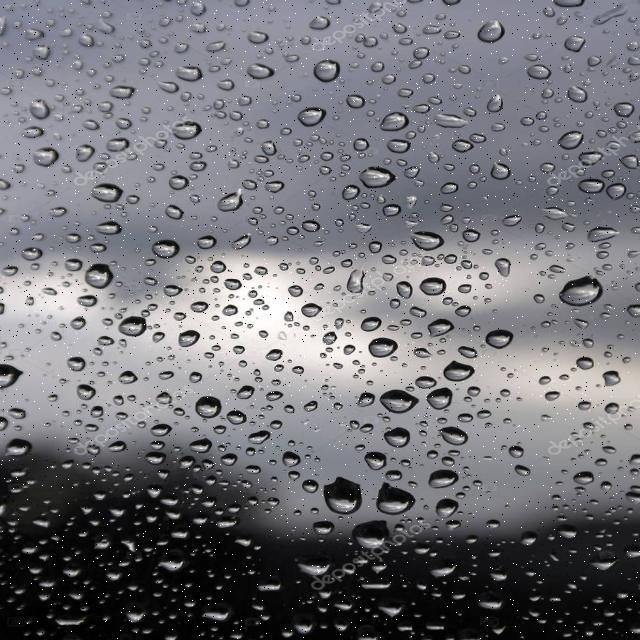raindrop: (552, 268, 618, 328), (432, 354, 497, 402), (313, 469, 369, 519), (347, 512, 404, 558), (370, 479, 424, 524), (373, 382, 427, 426), (282, 96, 346, 133), (471, 12, 524, 54), (73, 255, 125, 297), (364, 104, 430, 137), (145, 228, 199, 266), (350, 163, 406, 199), (555, 27, 597, 69), (203, 191, 260, 221), (351, 334, 404, 366), (172, 56, 218, 91), (436, 422, 486, 454), (381, 419, 418, 462), (165, 111, 208, 147), (554, 122, 596, 158), (354, 448, 404, 478), (94, 180, 137, 214), (416, 274, 459, 308), (193, 389, 232, 426), (302, 52, 347, 84), (582, 221, 627, 253), (482, 158, 522, 192), (27, 142, 72, 172), (0, 430, 45, 458), (428, 110, 480, 134), (296, 548, 334, 580), (405, 229, 447, 257), (114, 309, 155, 337), (480, 326, 518, 356), (426, 464, 466, 492), (244, 58, 278, 88), (576, 174, 610, 201), (585, 550, 623, 574), (0, 360, 32, 388), (422, 387, 457, 412), (302, 12, 337, 36), (425, 315, 459, 339), (468, 591, 508, 611), (575, 148, 613, 169), (223, 230, 258, 252), (174, 326, 207, 349), (60, 352, 93, 375), (279, 447, 309, 472), (27, 95, 55, 121), (344, 267, 368, 297), (428, 558, 459, 581), (436, 494, 463, 520), (18, 242, 51, 263), (186, 432, 216, 455), (459, 223, 489, 246), (536, 202, 570, 222), (74, 378, 100, 404), (114, 366, 146, 387), (597, 368, 625, 392), (105, 81, 138, 101), (386, 134, 416, 156), (495, 210, 525, 232), (484, 562, 514, 584), (566, 80, 591, 106), (494, 255, 518, 282), (512, 462, 540, 485), (297, 300, 329, 320), (140, 448, 172, 468), (212, 514, 244, 534), (331, 184, 363, 204), (482, 91, 508, 115), (93, 218, 124, 238), (191, 232, 222, 252), (64, 314, 92, 336), (310, 517, 338, 539), (570, 468, 598, 490), (502, 440, 530, 462), (218, 274, 252, 292), (556, 522, 586, 542), (92, 15, 121, 35), (14, 124, 46, 142), (73, 142, 99, 164), (28, 41, 55, 62), (526, 62, 554, 82), (407, 42, 438, 60), (606, 180, 630, 203), (250, 428, 276, 449), (102, 136, 134, 153), (218, 450, 248, 468), (414, 372, 444, 390), (163, 201, 187, 223), (298, 396, 322, 418), (166, 173, 192, 193), (222, 408, 248, 428), (516, 530, 542, 550), (82, 240, 114, 256), (148, 421, 178, 438), (396, 279, 418, 302), (206, 257, 234, 275), (188, 298, 216, 316), (450, 138, 478, 156), (543, 389, 571, 407), (351, 390, 376, 410), (5, 404, 32, 422), (242, 30, 272, 46), (152, 388, 176, 408), (616, 154, 640, 174), (186, 21, 214, 38), (433, 180, 461, 197), (359, 315, 384, 334), (184, 0, 210, 18), (262, 178, 288, 196), (105, 438, 131, 456), (348, 135, 374, 153), (157, 282, 186, 298), (259, 136, 280, 158), (454, 59, 476, 80), (603, 398, 626, 418), (300, 476, 323, 496), (614, 100, 638, 119), (370, 56, 394, 75), (202, 38, 230, 54), (439, 30, 467, 46), (186, 160, 212, 177), (154, 14, 176, 34), (57, 230, 84, 246), (234, 383, 258, 401), (250, 263, 274, 281), (407, 304, 434, 320), (574, 352, 598, 370), (260, 388, 288, 403), (347, 92, 369, 111), (110, 115, 136, 131), (280, 284, 306, 300), (153, 78, 177, 95), (540, 86, 560, 106), (187, 369, 209, 387), (366, 238, 388, 256), (220, 302, 244, 318), (452, 303, 476, 319), (320, 328, 339, 348), (78, 32, 99, 50), (76, 292, 97, 310), (24, 26, 46, 43), (518, 114, 540, 131), (235, 92, 258, 108), (390, 22, 413, 38), (468, 130, 491, 146), (89, 405, 108, 424), (228, 106, 248, 124), (157, 366, 181, 381), (177, 453, 197, 471), (300, 215, 321, 232), (80, 118, 102, 134), (238, 176, 260, 192), (422, 22, 444, 38), (530, 238, 552, 254), (213, 78, 238, 92), (264, 345, 284, 362), (108, 392, 128, 409), (143, 483, 163, 500), (421, 68, 441, 85), (623, 302, 640, 322), (95, 99, 116, 115), (376, 75, 400, 89), (546, 262, 570, 276), (322, 148, 340, 166), (444, 249, 462, 267), (380, 252, 400, 268), (393, 85, 417, 98), (382, 201, 399, 219), (174, 40, 193, 56), (47, 206, 72, 218), (406, 57, 426, 72), (356, 222, 376, 237), (288, 362, 308, 377), (242, 464, 266, 476), (158, 494, 182, 506), (362, 34, 380, 50), (314, 162, 334, 176), (461, 104, 479, 119), (205, 473, 219, 492), (340, 254, 356, 270), (28, 62, 46, 76), (110, 52, 128, 66), (254, 116, 272, 130), (278, 308, 296, 322), (138, 39, 158, 51), (178, 90, 195, 104), (414, 101, 432, 114), (69, 59, 85, 73), (150, 163, 168, 175), (253, 152, 271, 164), (82, 66, 97, 80), (136, 55, 152, 68), (462, 256, 476, 270), (42, 76, 58, 88), (12, 68, 26, 81), (212, 98, 226, 110)
